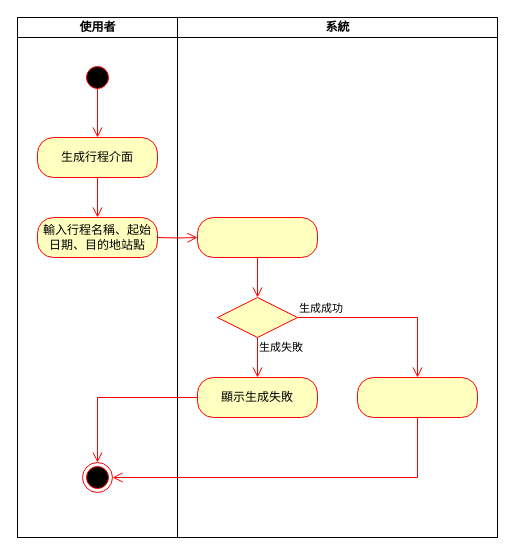
This 515x555 diagram has some shape labels left out. The box of each missing label's shape, as (x1, y1, x2, y2) in pixels:
生成行程: (196, 216, 318, 258)
顯示 行程: (356, 376, 478, 418)
